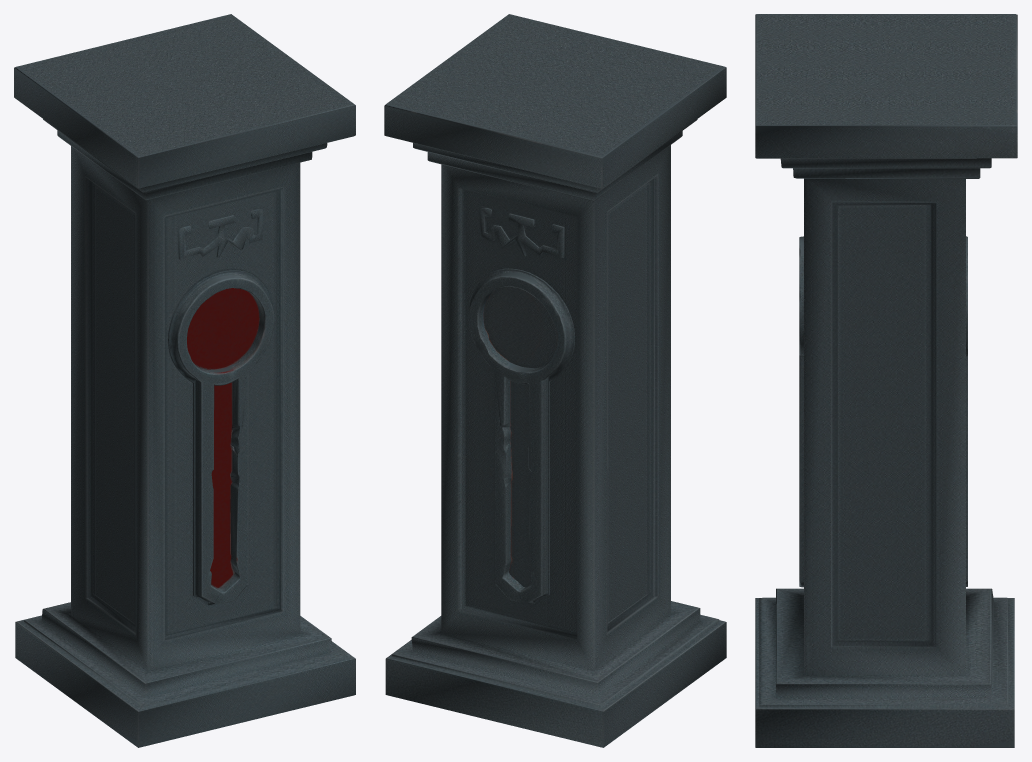
3 views of the same model, side by side, from view 1: azimuth 30°, elevation 25°; view 2: azimuth 150°, elevation 25°; view 3: azimuth 270°, elevation 25° (orthographic). The views are drawn at different scales.
Bounding box in the file's own units: 0.3667 × 0.9517 × 0.3628.
Materials: 1 (1 with a texture image).
